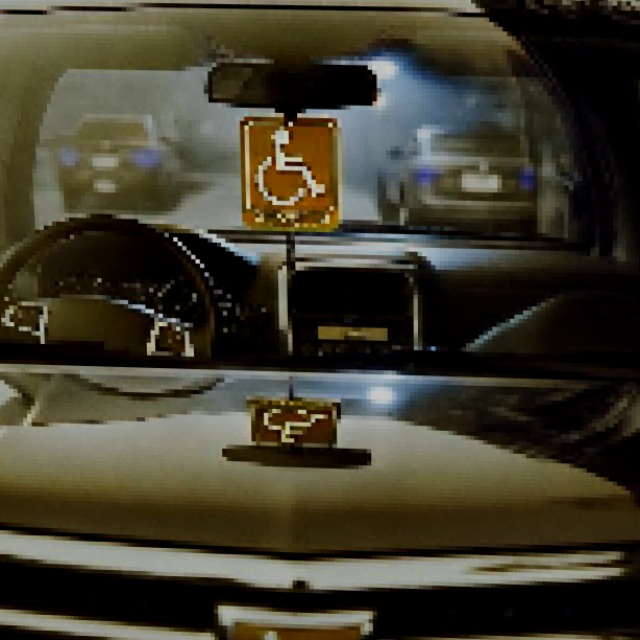ISA: (253, 123, 327, 206), (257, 402, 332, 445)
